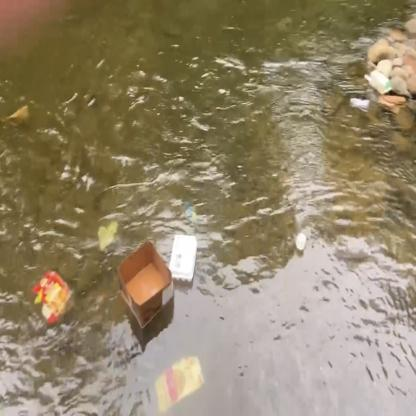trash: (115, 235, 180, 332), (152, 351, 209, 416), (29, 262, 77, 332), (165, 228, 204, 288), (375, 90, 411, 118), (366, 67, 392, 96), (346, 93, 372, 115), (294, 230, 308, 252)
